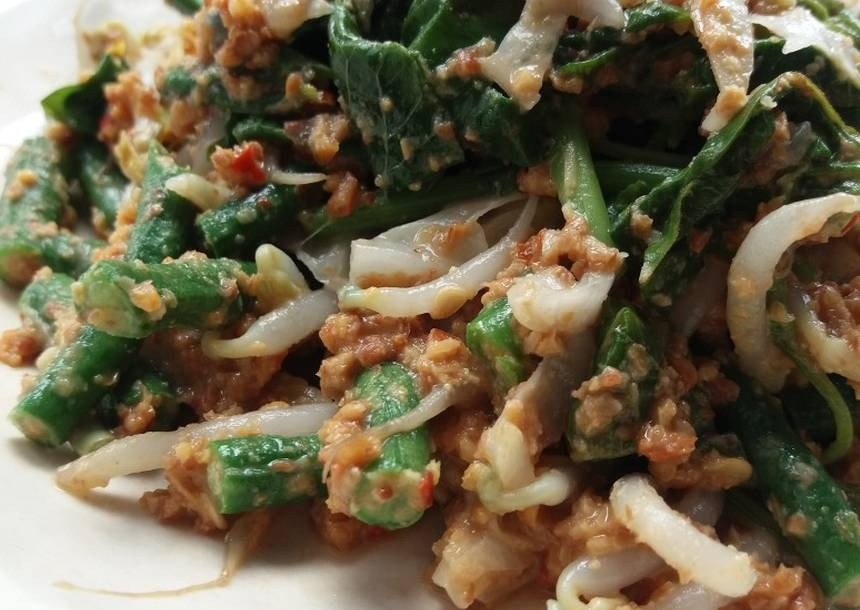pecel: (18, 5, 853, 599)
